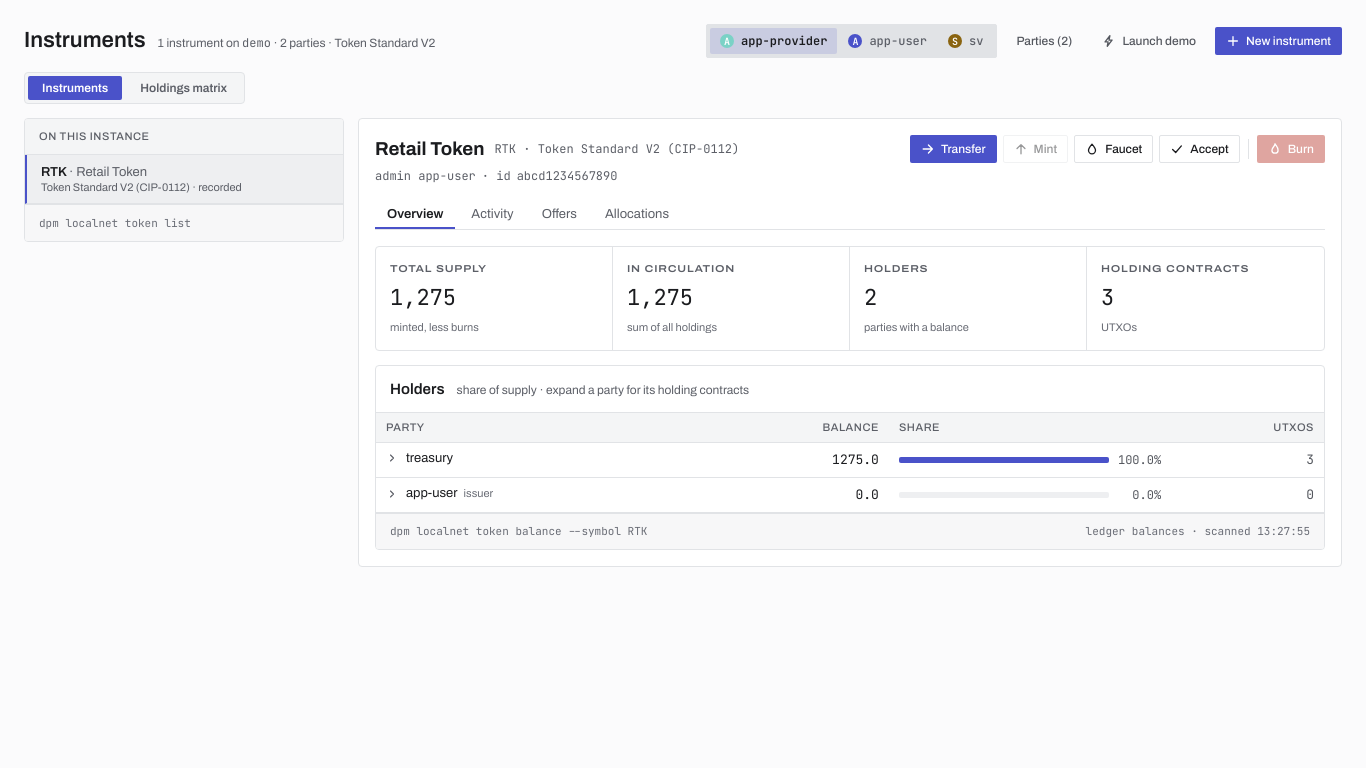
Test: TokensScreen › opens the faucet modal from the instrument action rail
This screenshot has width=1366, height=768.
Click the button "Faucet". click: [1114, 149]
box: [1074,135,1153,163]
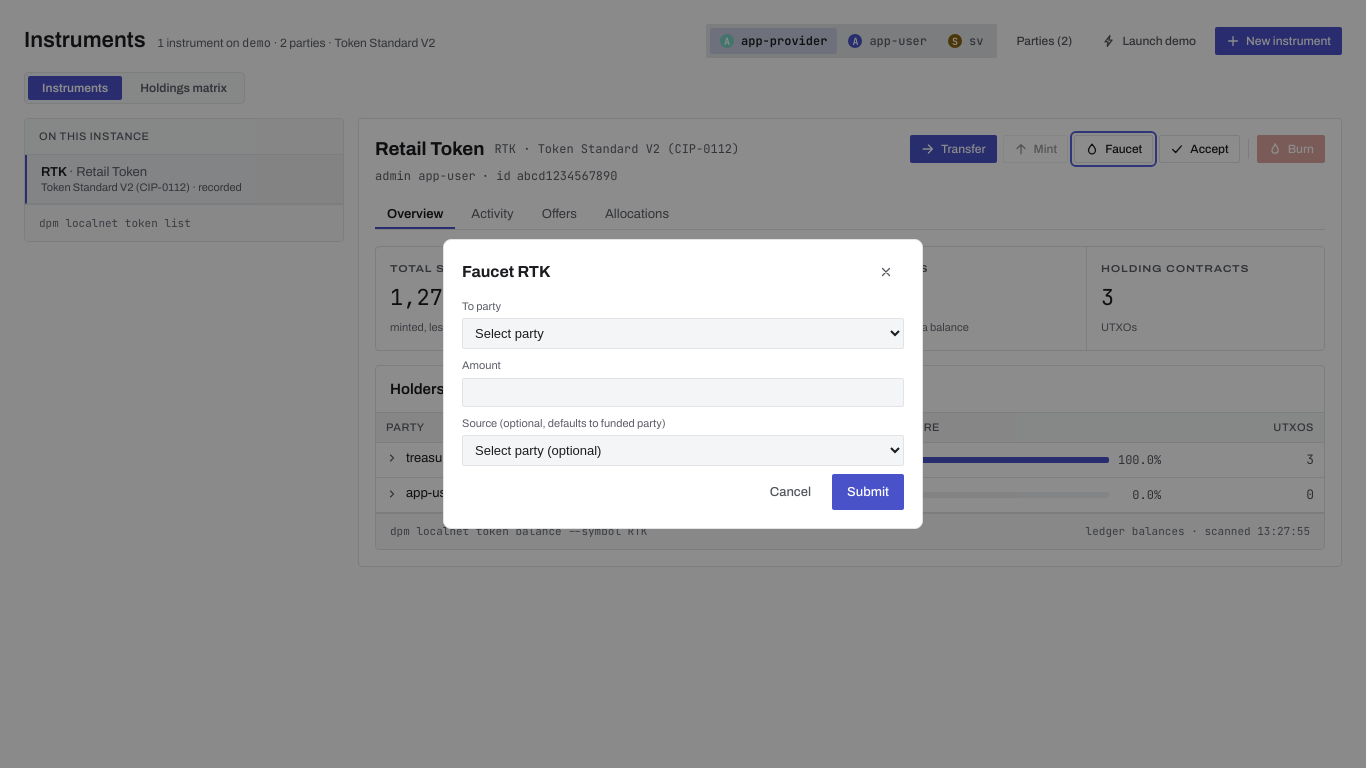
Check: the heading "Faucet RTK" is shown, box [462,260,551,284]
Check: the text "Source (optional, defaults to funded party)" is shown, box [462,417,666,429]
